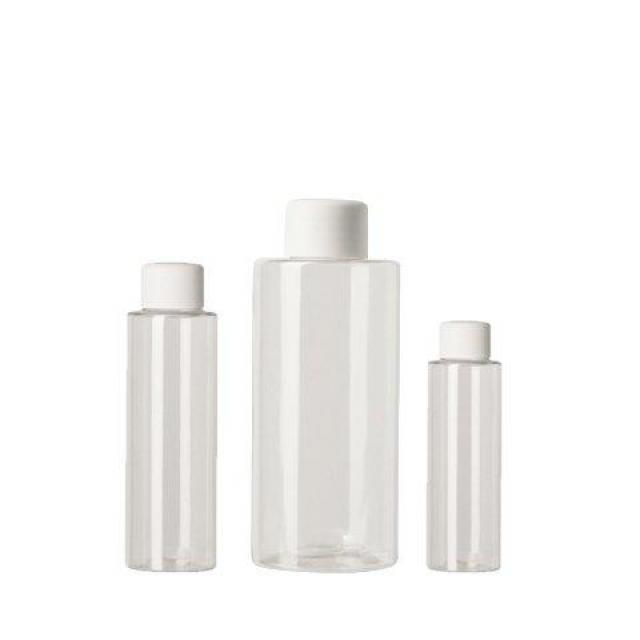plastic_bottle: (224, 177, 408, 577), (93, 255, 240, 583), (412, 310, 536, 584)
